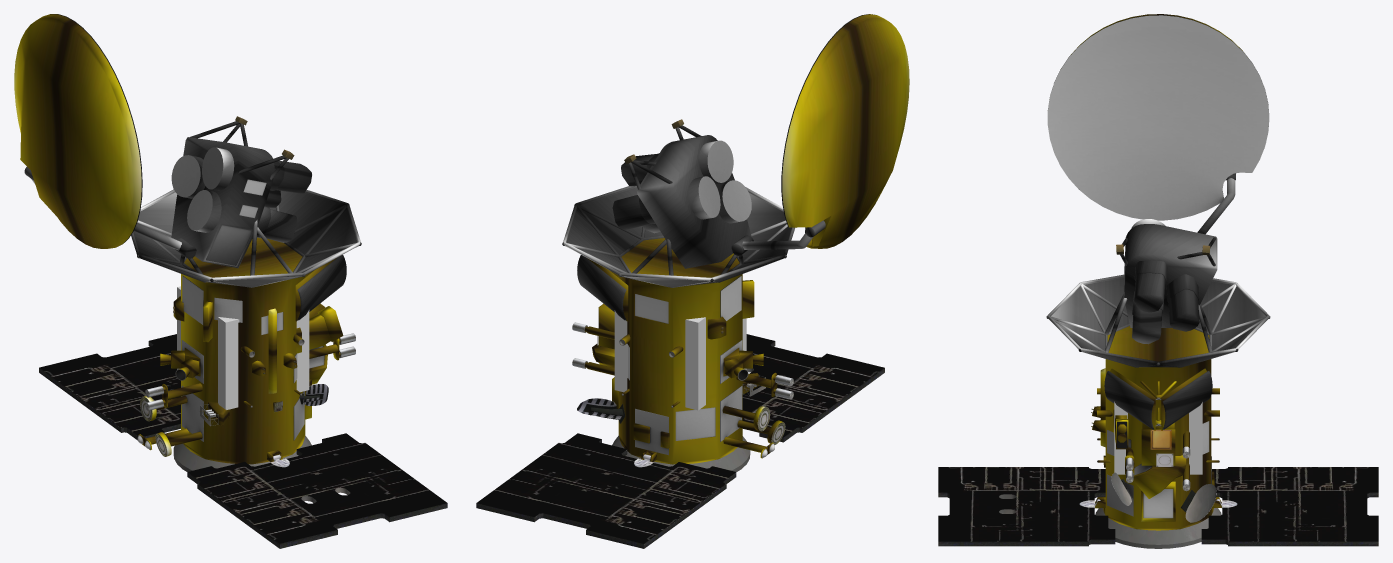
File: aquarius-b-2.glb
3 views of the same model, side by side, from view 1: azimuth 30°, elevation 25°; view 2: azimuth 150°, elevation 25°; view 3: azimuth 270°, elevation 25° (orthographic). The views are drawn at different scales.
Parts seen in each view (by area): view 1: foil_gold, tex_02, foil_silver, AO_other_dep, tex_01, Cube.001; view 2: foil_gold, tex_02, foil_silver, AO_other_dep, tex_01, Cube.001; view 3: AO_dish_dep, tex_02, foil_silver, foil_gold, tex_01, AO_other_dep, Cube.001.
Boxes of the visible parts, x1,y1,x2,y2 form: foil_gold: [14, 14, 343, 464]; tex_02: [39, 334, 446, 543]; foil_silver: [24, 121, 361, 320]; AO_other_dep: [137, 147, 324, 449]; tex_01: [39, 116, 447, 548]; Cube.001: [177, 286, 309, 409]; foil_gold: [584, 14, 909, 464]; tex_02: [477, 334, 884, 543]; foil_silver: [562, 125, 825, 320]; AO_other_dep: [628, 140, 774, 457]; tex_01: [476, 119, 884, 548]; Cube.001: [614, 310, 746, 410]; AO_dish_dep: [1047, 15, 1269, 220]; tex_02: [938, 467, 1378, 541]; foil_silver: [1046, 173, 1270, 429]; foil_gold: [1071, 14, 1242, 530]; tex_01: [938, 244, 1378, 548]; AO_other_dep: [1107, 421, 1211, 518]; Cube.001: [1114, 401, 1202, 474].
Bounding box in the file's own units: 3.49 × 5.38 × 4.97.
7 materials, 7 textured.
